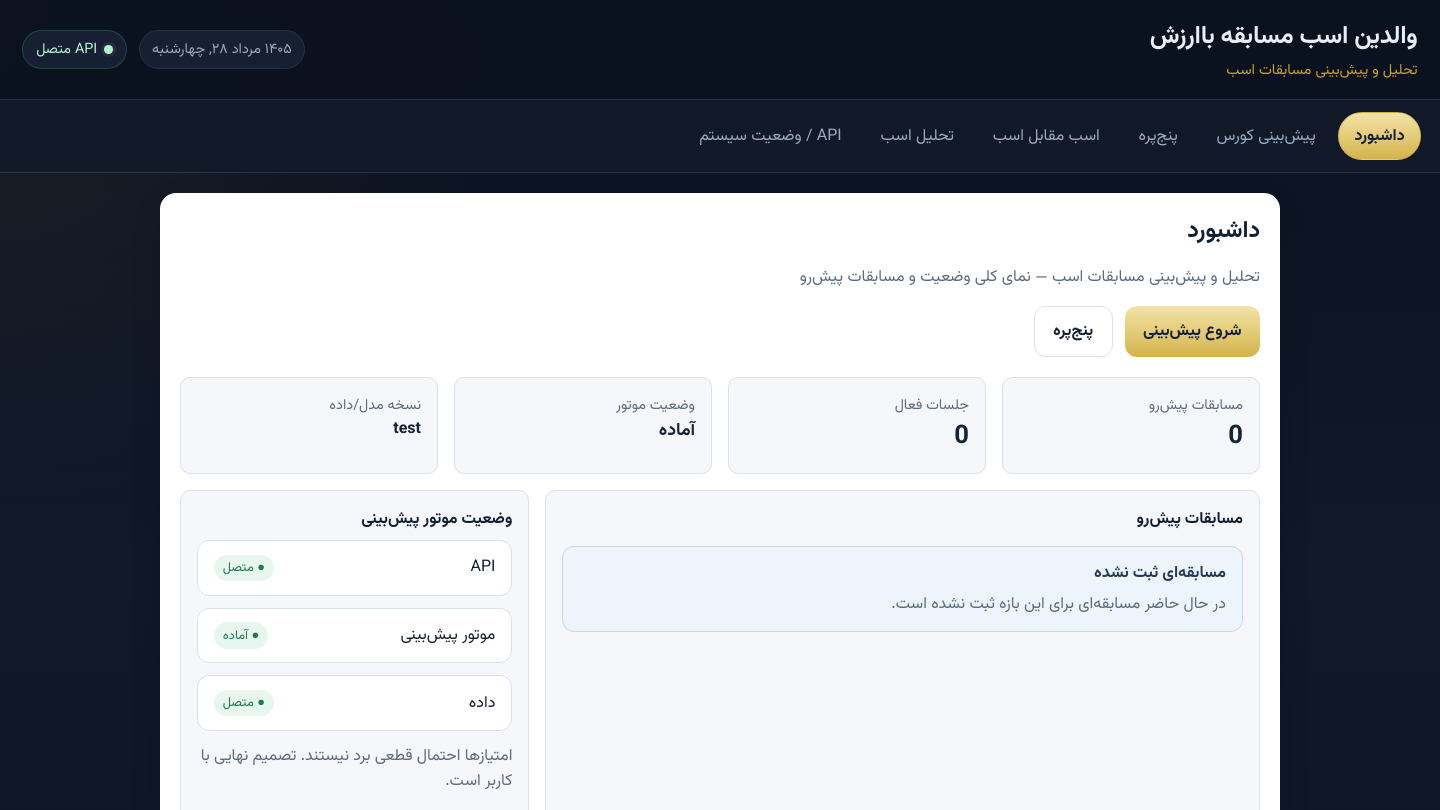
Test: App dashboard › does not fabricate five-parreh events when API returns empty
The image size is (1440, 810).
Click the 1st button "پنج‌پره" at (1158, 136), box x1=1122 y1=112 x2=1194 y2=160
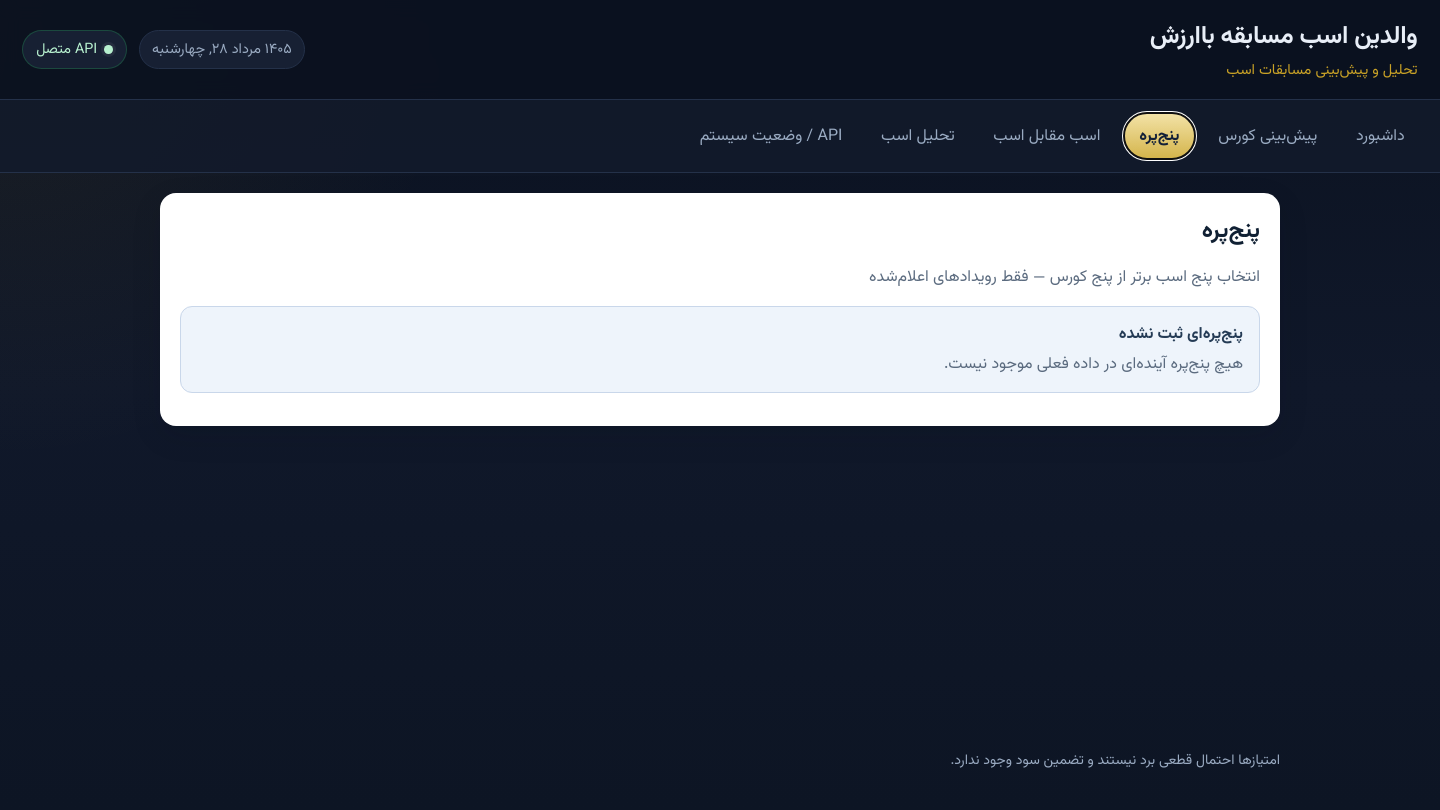
expect the text "هیچ پنج‌پره آینده‌ای در داده فعلی موجود نیست." is shown: met, box x1=944 y1=352 x2=1243 y2=377
